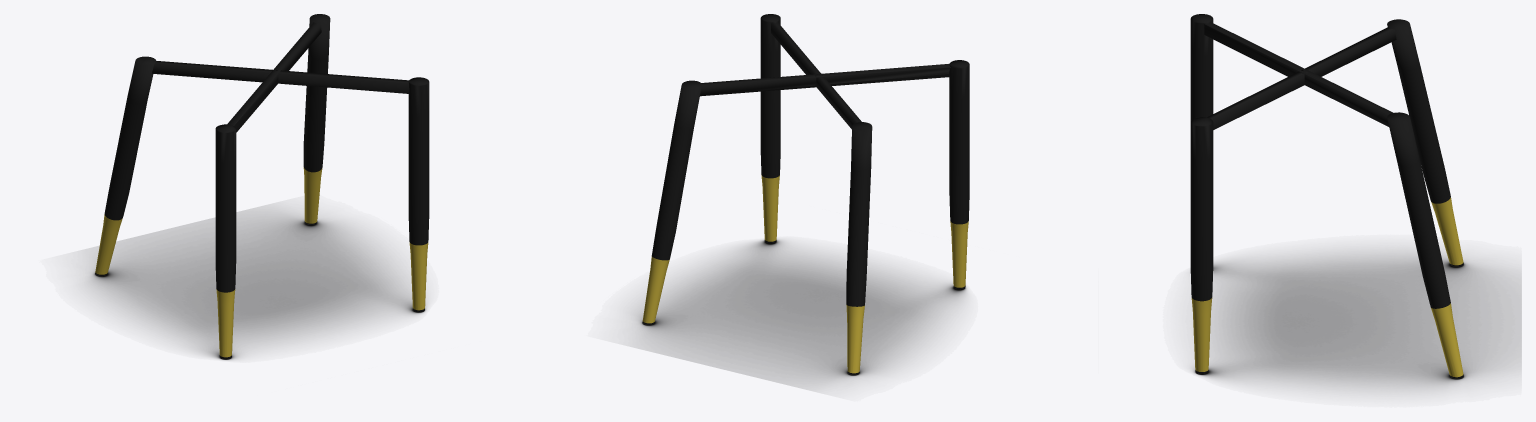
The model's file is czarne+złote.glb.
3 views of the same model, side by side, from view 1: azimuth 30°, elevation 25°; view 2: azimuth 150°, elevation 25°; view 3: azimuth 270°, elevation 25° (orthographic). The views are drawn at different scales.
Visible parts, largest first — view 1: Shadow.002, legs.013, legs.014; view 2: Shadow.002, legs.013, legs.014; view 3: Shadow.002, legs.013, legs.014.
Boxes of the visible parts, x1=… form: Shadow.002: x1=88, y1=208, x2=426, y2=360; legs.013: x1=95, y1=14, x2=429, y2=359; legs.014: x1=95, y1=167, x2=428, y2=357; Shadow.002: x1=634, y1=239, x2=966, y2=387; legs.013: x1=642, y1=14, x2=969, y2=375; legs.014: x1=642, y1=175, x2=968, y2=373; Shadow.002: x1=1193, y1=253, x2=1521, y2=388; legs.013: x1=1190, y1=14, x2=1463, y2=378; legs.014: x1=1191, y1=197, x2=1463, y2=377.
Bounding box in the file's own units: 0.5956 × 0.3996 × 0.6133.
3 materials, 1 textured.
